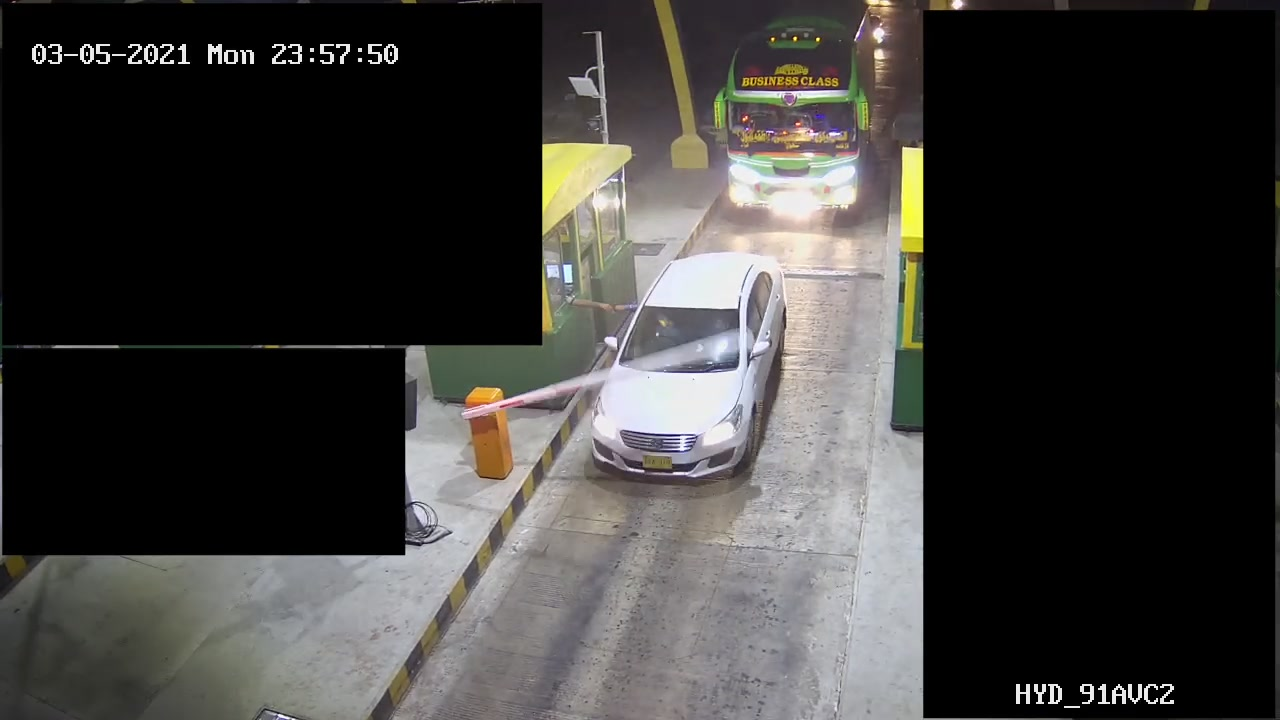F1: (582, 249, 808, 482)
